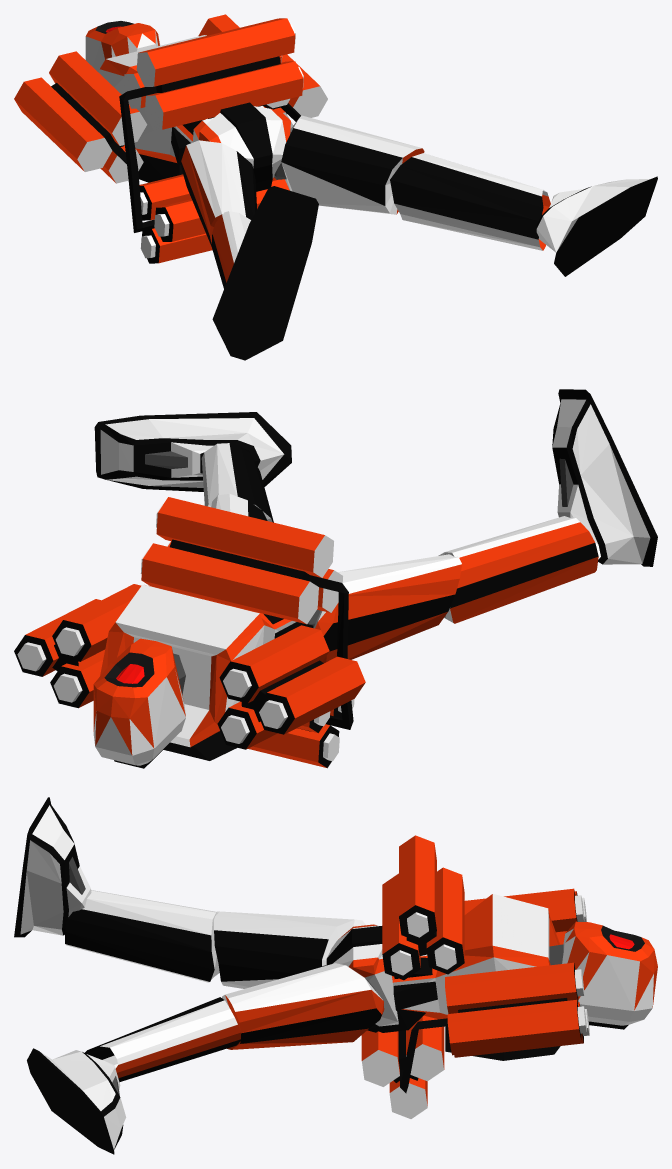
The model's file is robots_000010.obj.
The picture shows the model from 3 angles, top to bottom: view 1: azimuth 30°, elevation 25°; view 2: azimuth 150°, elevation 25°; view 3: azimuth 270°, elevation 25°; orthographic projection. The views are drawn at different scales.
Parts seen in each view (by area): view 1: Cylinder.004_Cylinder.006, R_Foot_Cube, R_Shin.002_Cube.029, R_Thigh.002_Cube.027, R_Foot.002_Cube.035, R_Thigh_Cube.005, Pelvis_Cube.006, Chest_plate_Cube.004, Head_base.002_Cube.030, R_Shin_Cube.007; view 2: Cylinder.004_Cylinder.006, Chest_plate_Cube.004, R_Foot.002_Cube.035, R_Foot_Cube, R_Shin_Cube.007, R_Thigh_Cube.005, Head_base.002_Cube.030, R_Shin.002_Cube.029, R_Thigh.002_Cube.027; view 3: Cylinder.004_Cylinder.006, R_Thigh.002_Cube.027, R_Shin_Cube.007, Chest_plate_Cube.004, R_Thigh_Cube.005, Head_base.002_Cube.030, R_Foot_Cube, R_Shin.002_Cube.029, R_Foot.002_Cube.035, Pelvis_Cube.006.
Part boxes in pixels (box(x1,y1,x2,y2)): Cylinder.004_Cylinder.006: box(14, 14, 327, 263); R_Foot_Cube: box(212, 186, 318, 360); R_Shin.002_Cube.029: box(390, 153, 550, 250); R_Thigh.002_Cube.027: box(281, 115, 424, 214); R_Foot.002_Cube.035: box(536, 176, 657, 276); R_Thigh_Cube.005: box(181, 140, 256, 246); Pelvis_Cube.006: box(192, 102, 290, 191); Chest_plate_Cube.004: box(99, 35, 274, 182); Head_base.002_Cube.030: box(85, 21, 160, 72); R_Shin_Cube.007: box(211, 211, 250, 288); Cylinder.004_Cylinder.006: box(14, 497, 365, 768); Chest_plate_Cube.004: box(100, 584, 313, 760); R_Foot.002_Cube.035: box(94, 412, 291, 491); R_Foot_Cube: box(552, 389, 657, 566); R_Shin_Cube.007: box(438, 516, 598, 623); R_Thigh_Cube.005: box(314, 554, 461, 663); Head_base.002_Cube.030: box(93, 638, 185, 768); R_Shin.002_Cube.029: box(201, 443, 273, 522); R_Thigh.002_Cube.027: box(211, 493, 267, 520); Cylinder.004_Cylinder.006: box(361, 835, 589, 1118); R_Thigh.002_Cube.027: box(222, 963, 384, 1049); R_Shin_Cube.007: box(65, 890, 219, 982); Chest_plate_Cube.004: box(392, 894, 560, 1060); R_Thigh_Cube.005: box(214, 911, 365, 988); Head_base.002_Cube.030: box(562, 921, 657, 1029); R_Foot_Cube: box(14, 797, 91, 937); R_Shin.002_Cube.029: box(85, 997, 240, 1082); R_Foot.002_Cube.035: box(27, 1048, 126, 1154); Pelvis_Cube.006: box(326, 924, 425, 1032).
Bounding box in the file's own units: 2.6 × 1.16 × 3.
